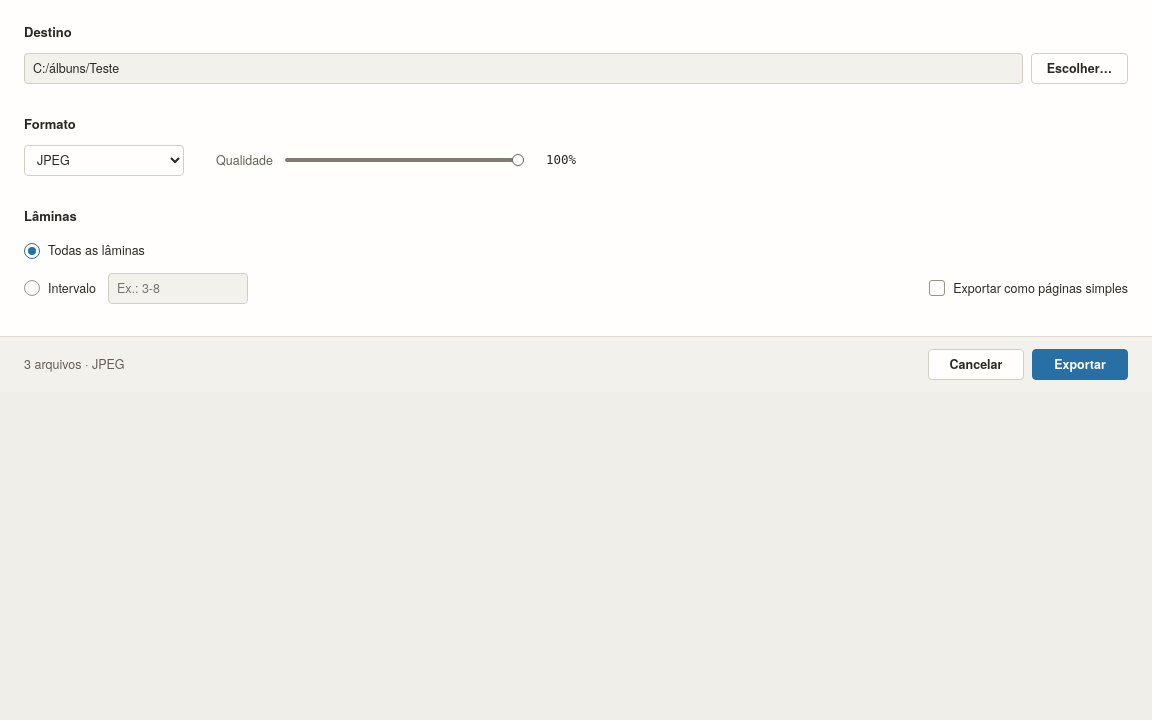
Test: keeps an empty interval neutral and moves invalid input guidance into a tooltip
Step 1. Click the radio button labelled "Intervalo" → click(32, 288), box [24, 280, 40, 296]
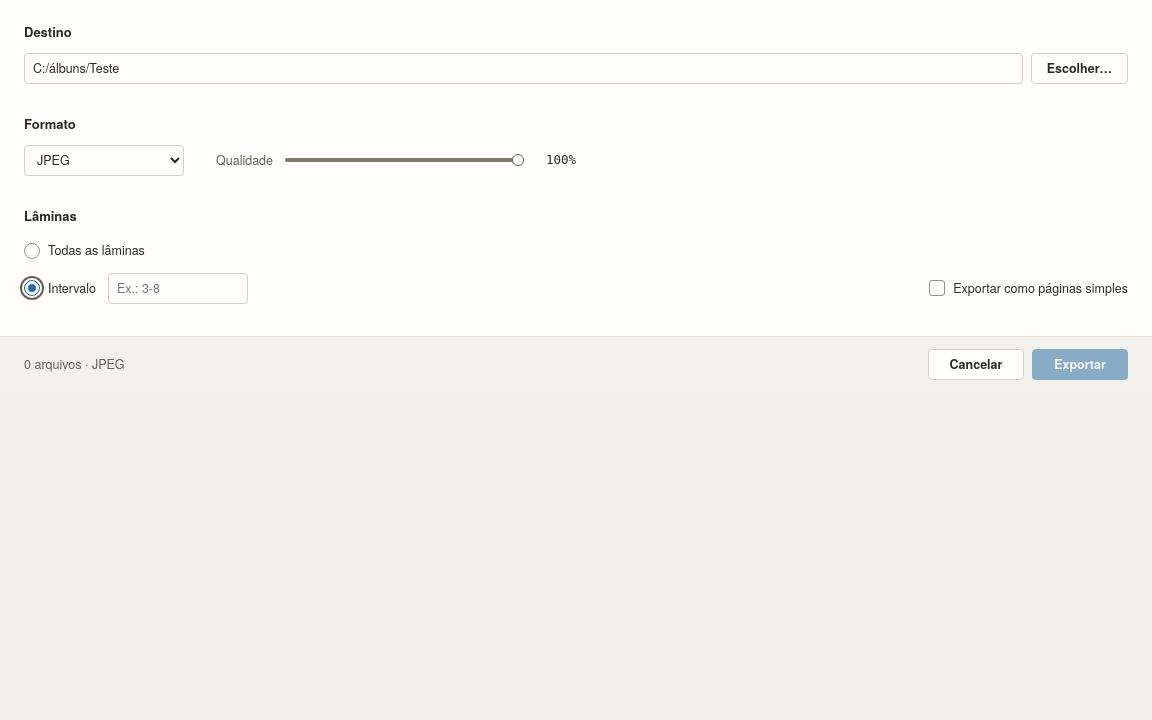
Result: the button "Exportar" is disabled at [1032, 349, 1128, 380]
Step 2. Type "3-2" into the field named "Lâminas do intervalo" → (178, 288), box [108, 273, 248, 304]
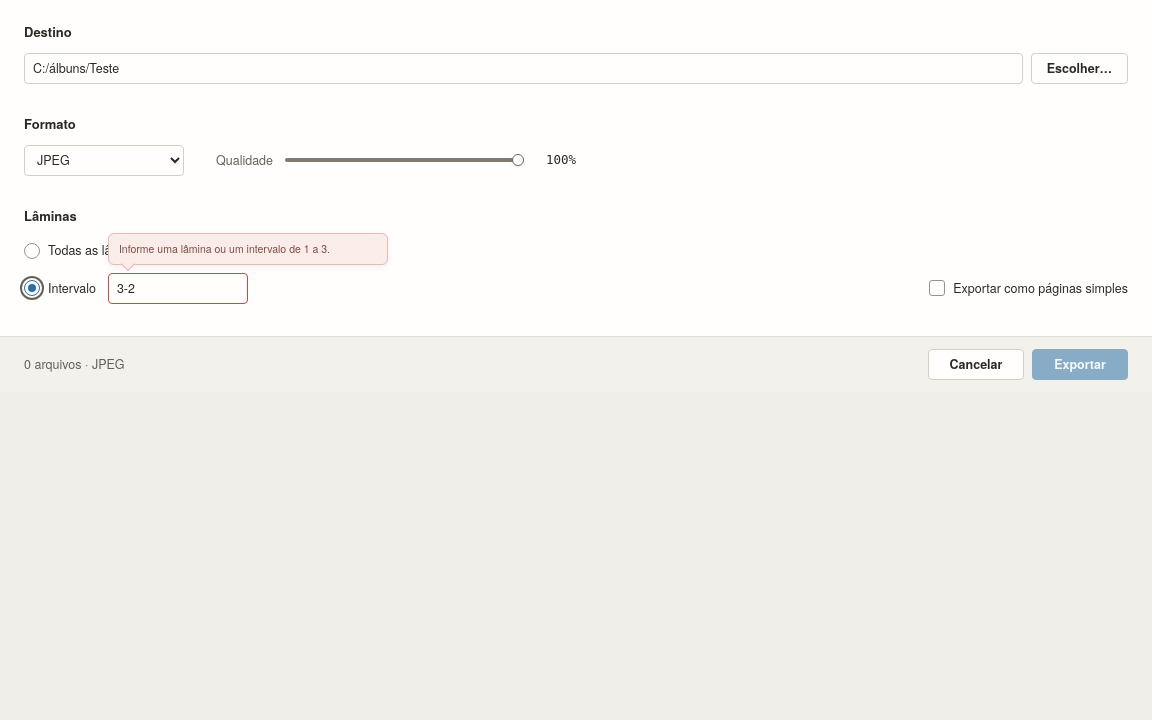
Result: the tooltip shows "Informe uma lâmina ou um intervalo de 1 a 3" at [119, 240, 330, 256]
Step 3. Clear the field named "Lâminas do intervalo" → (178, 288), box [108, 273, 248, 304]
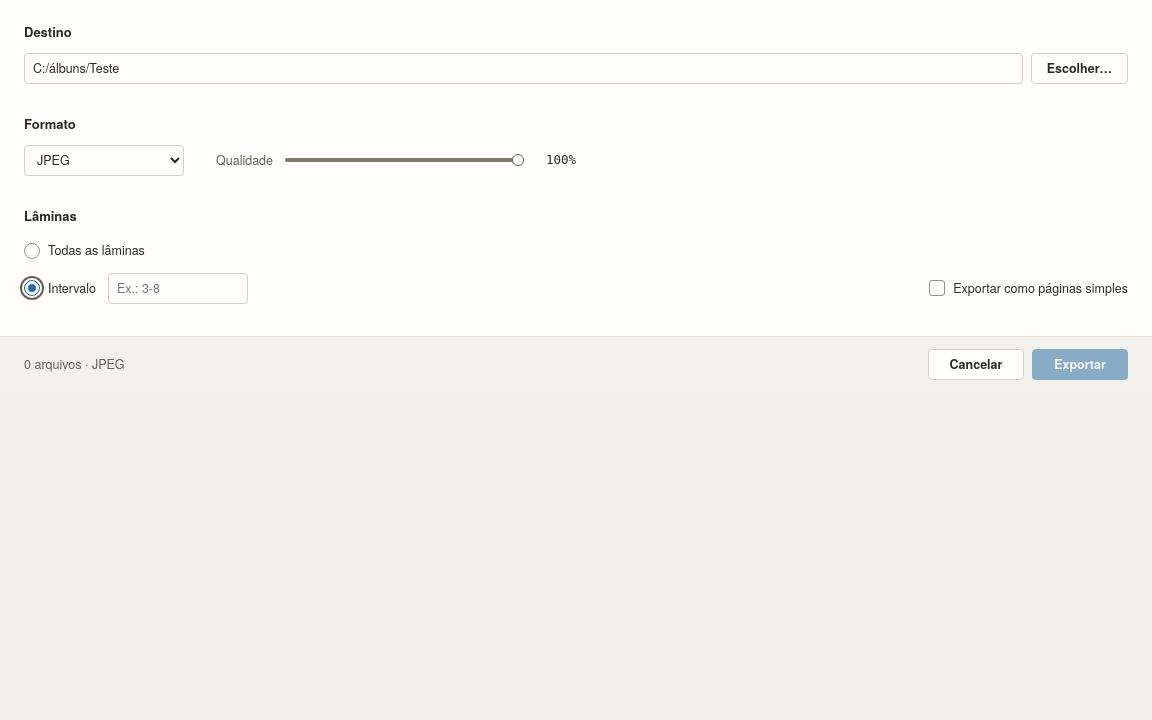
Result: the tooltip "Informe uma lâmina ou um intervalo de 1 a 3." is gone
Step 4. Type "2-3" into the field named "Lâminas do intervalo" → (178, 288), box [108, 273, 248, 304]
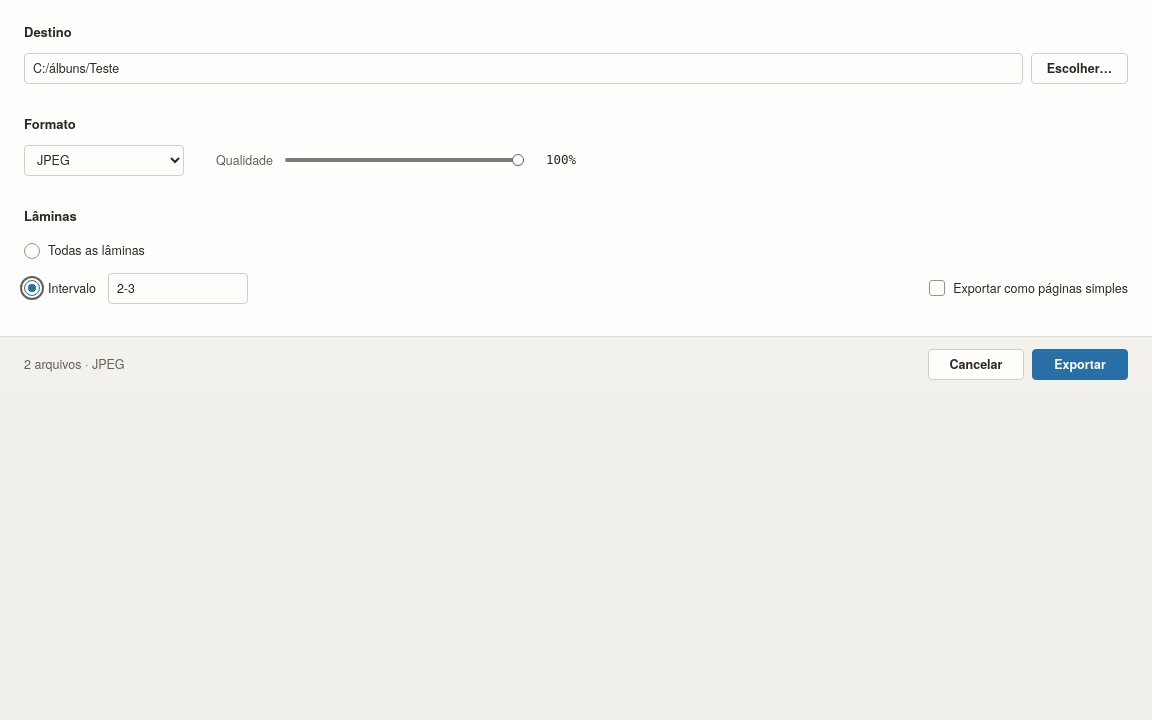
Result: the button "Exportar" is enabled at [1032, 349, 1128, 380]
